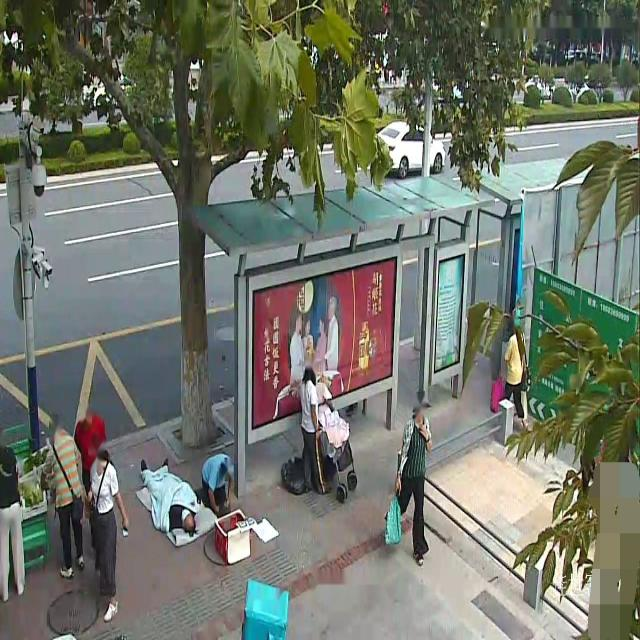fixed_stall: (14, 440, 48, 508)
